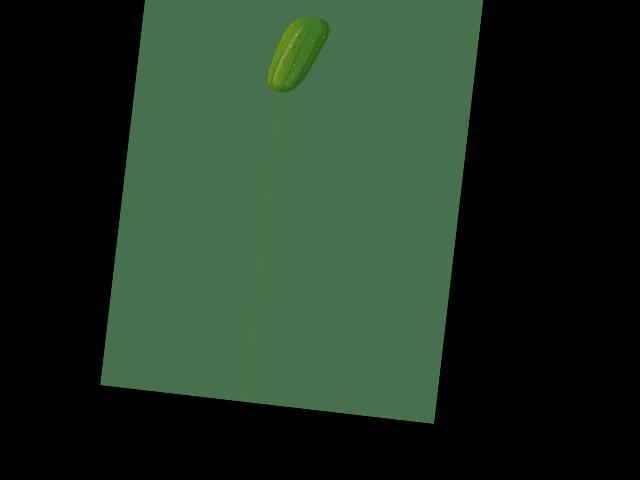cucumber: (266, 12, 331, 97)
